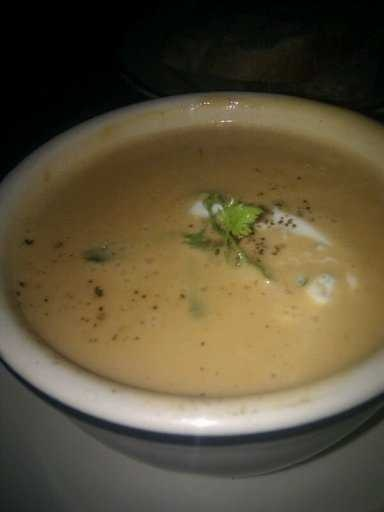soup: (14, 99, 376, 423)
